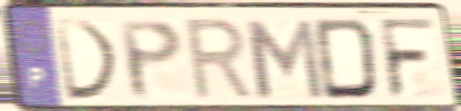D: (52, 17, 123, 104), (312, 16, 380, 103)
F: (376, 15, 440, 103)
M: (240, 17, 328, 102)
P: (115, 17, 186, 103)
R: (183, 15, 259, 105)
